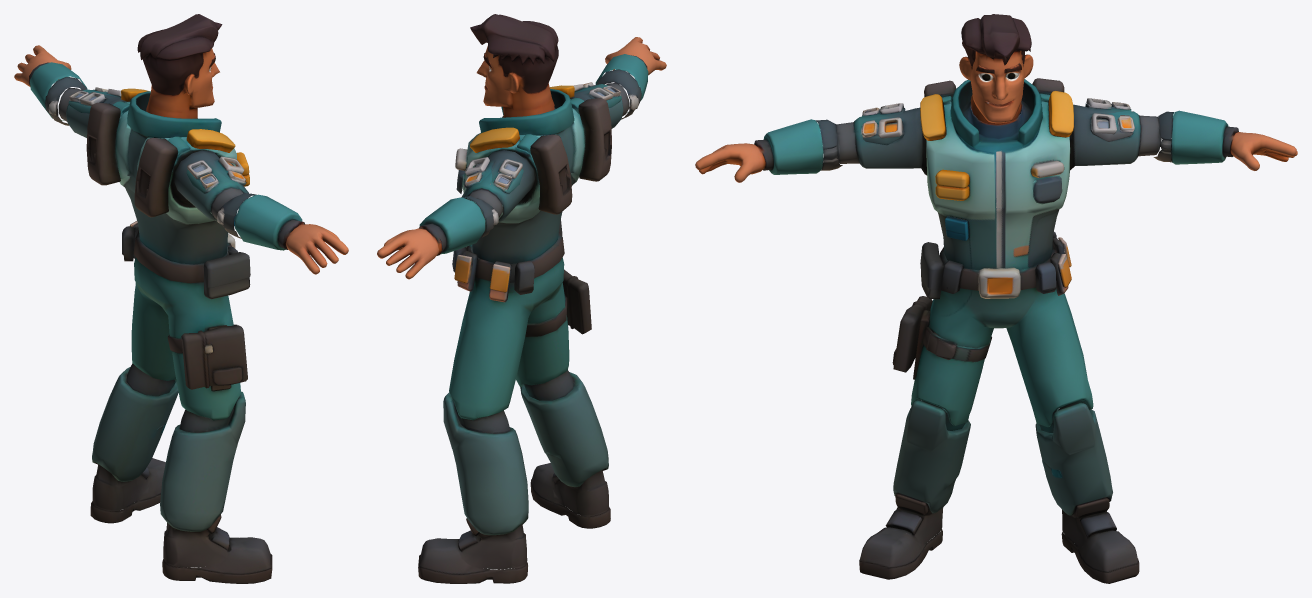
The model's file is engineer.glb.
3 views of the same model, side by side, from view 1: azimuth 30°, elevation 25°; view 2: azimuth 150°, elevation 25°; view 3: azimuth 270°, elevation 25° (orthographic). The views are drawn at different scales.
Visible parts, largest first — view 1: tripo_node_419f330c-55ec-44e9-bc39-fdd7335fe846; view 2: tripo_node_419f330c-55ec-44e9-bc39-fdd7335fe846; view 3: tripo_node_419f330c-55ec-44e9-bc39-fdd7335fe846.
Part boxes in pixels (x1,y1,x2,y2): tripo_node_419f330c-55ec-44e9-bc39-fdd7335fe846: (14, 14, 348, 583); tripo_node_419f330c-55ec-44e9-bc39-fdd7335fe846: (377, 14, 666, 583); tripo_node_419f330c-55ec-44e9-bc39-fdd7335fe846: (695, 14, 1297, 583).
Size of the model in its own units: 0.2368 by 0.9946 by 0.9995.
Materials: 1 (1 with a texture image).
